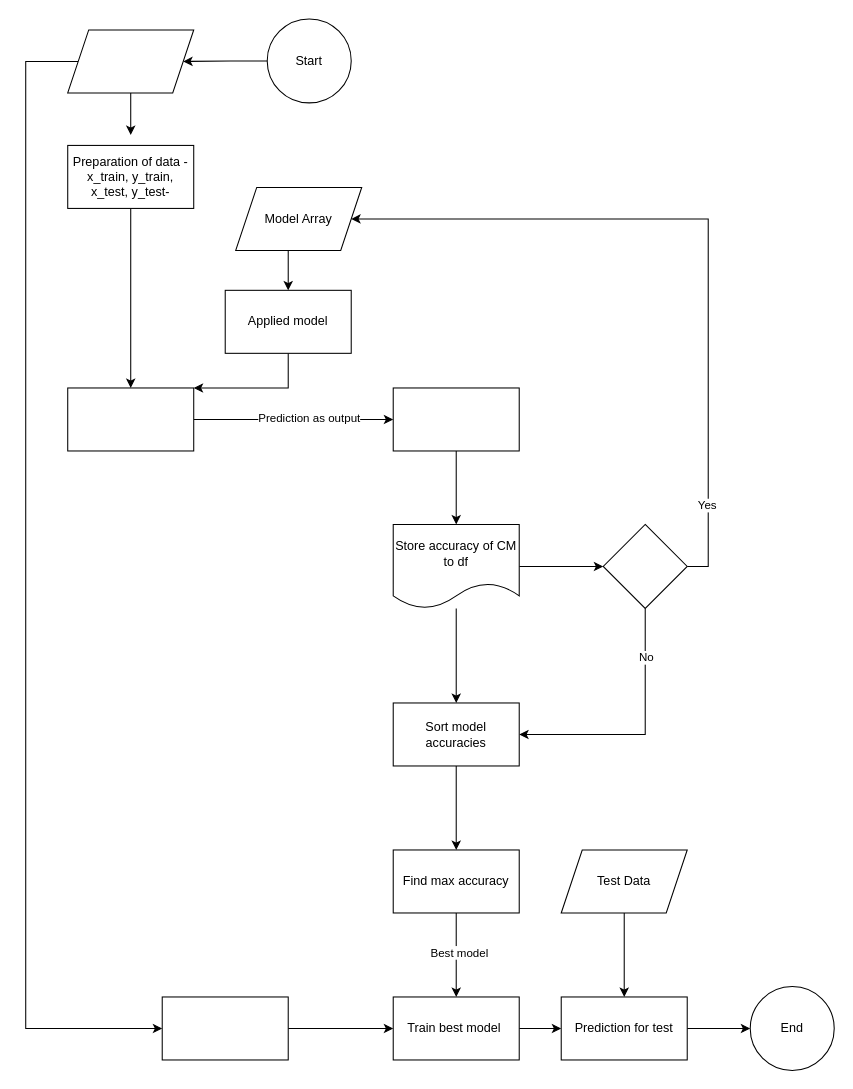
The diagram is 853 pixels wide and 1089 high, and some of its shapes have lost their labels. Each missing label, with the centre of its shape:
"Calculate confusion Matrix" goes at point 455,419.
"is model array finished" goes at point 644,565.
"Model function -fit-" goes at point 130,419.
"Split data to x_train and y_train" goes at point 224,1028.
"Train Data" goes at point 130,61.
